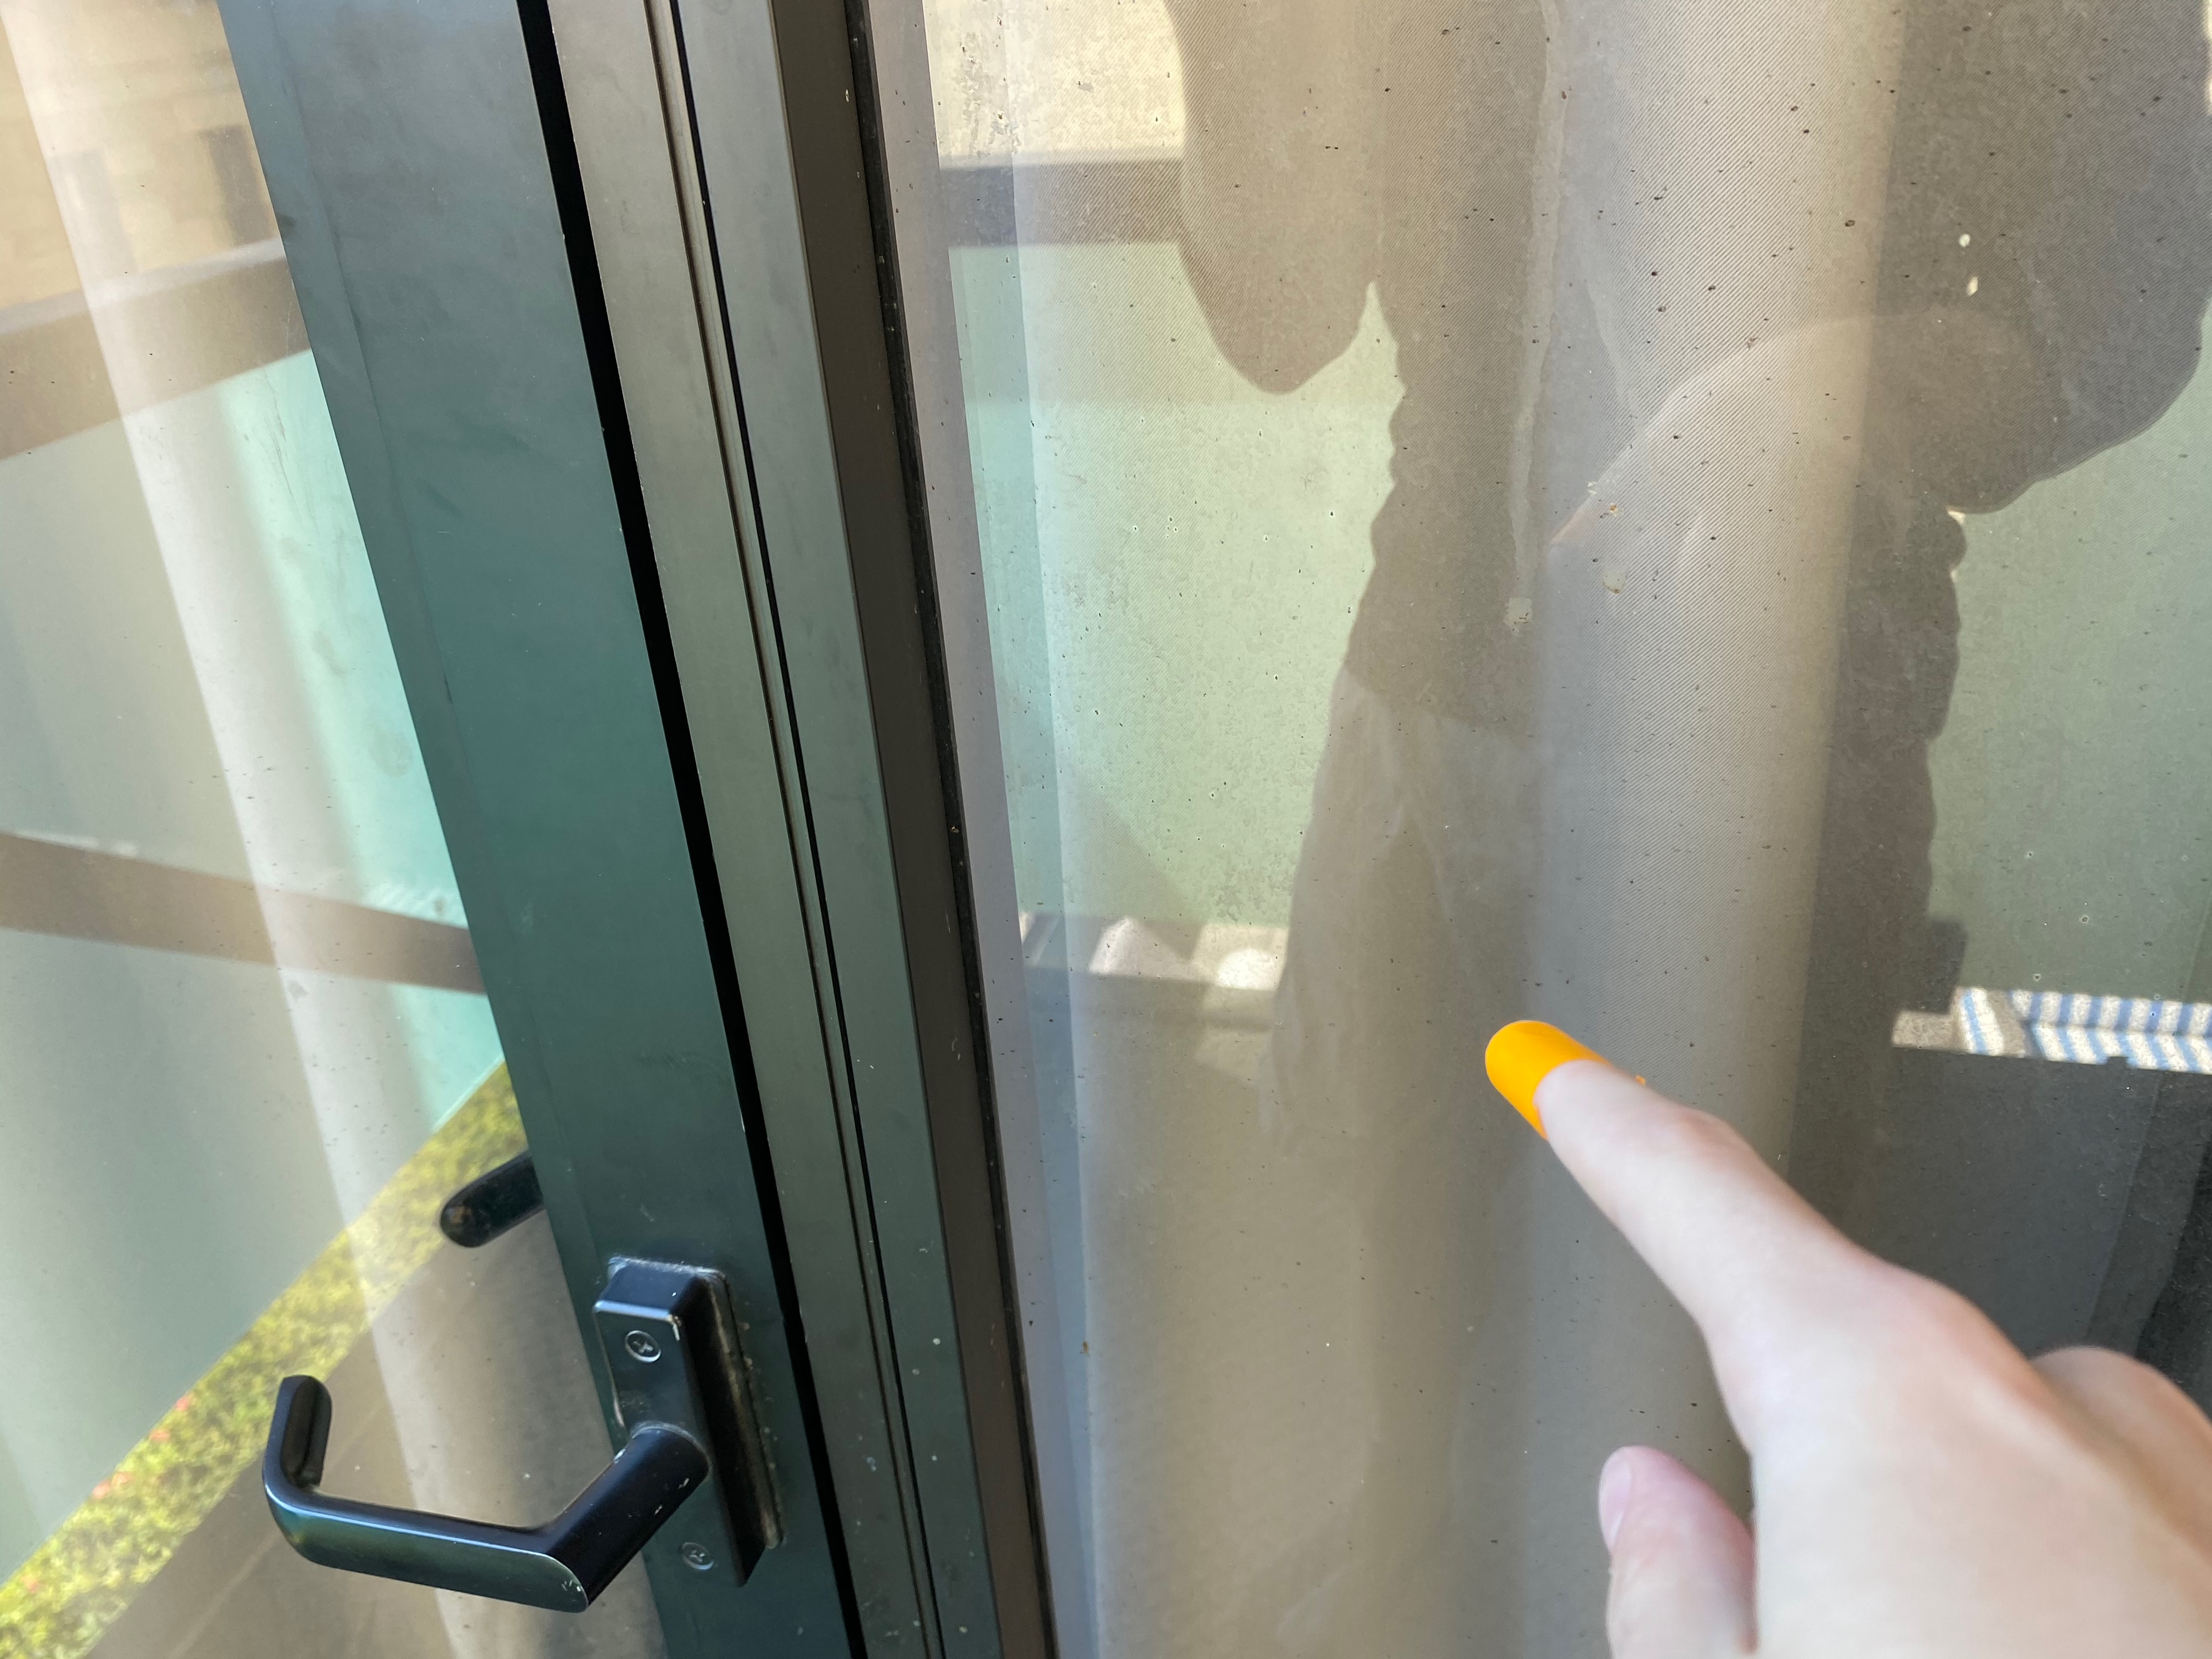fingertip: (1449, 1016, 1613, 1157)
